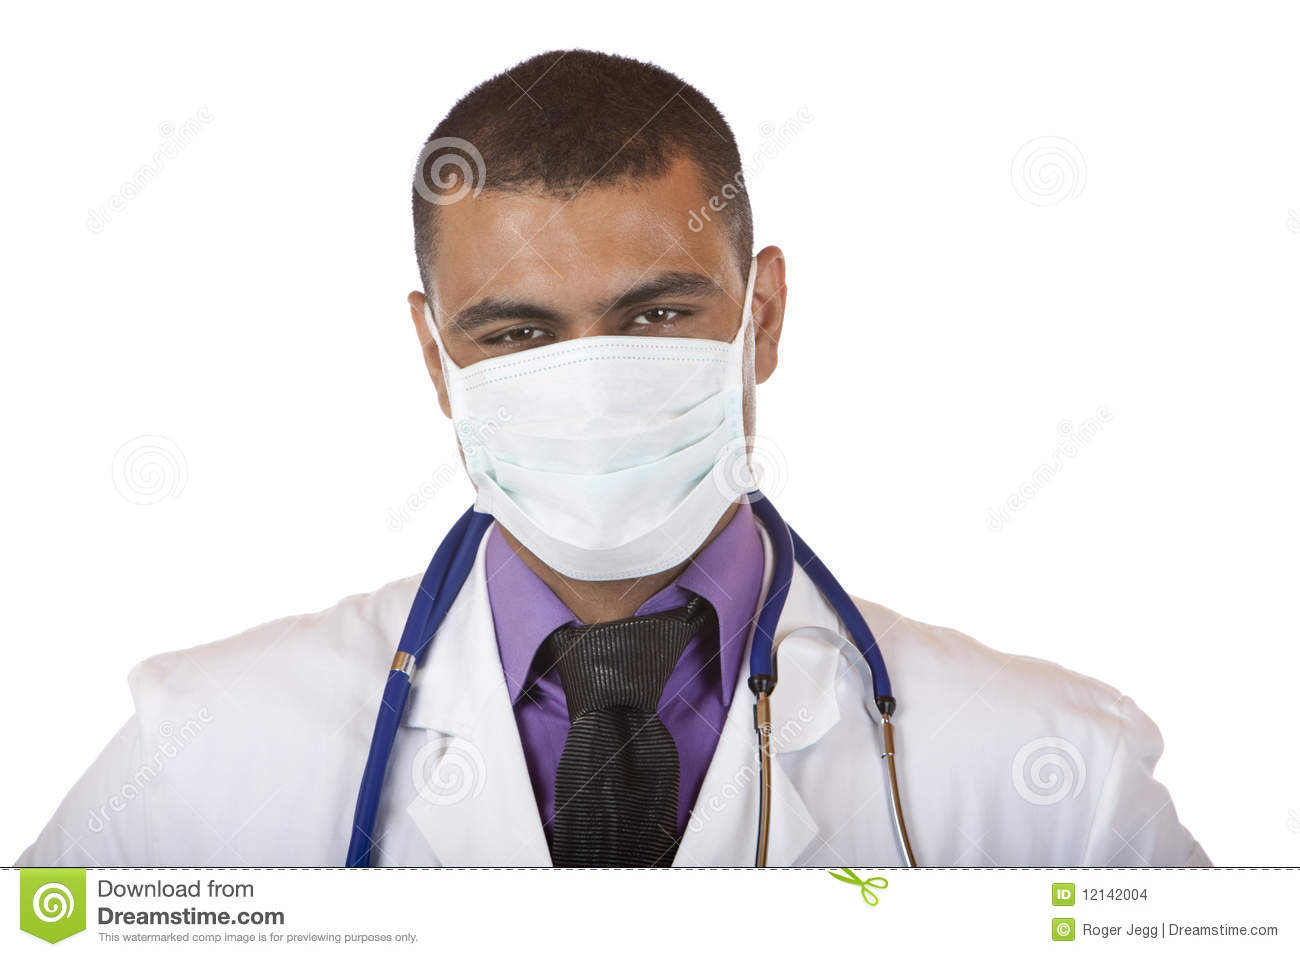mask: (445, 338, 760, 586)
